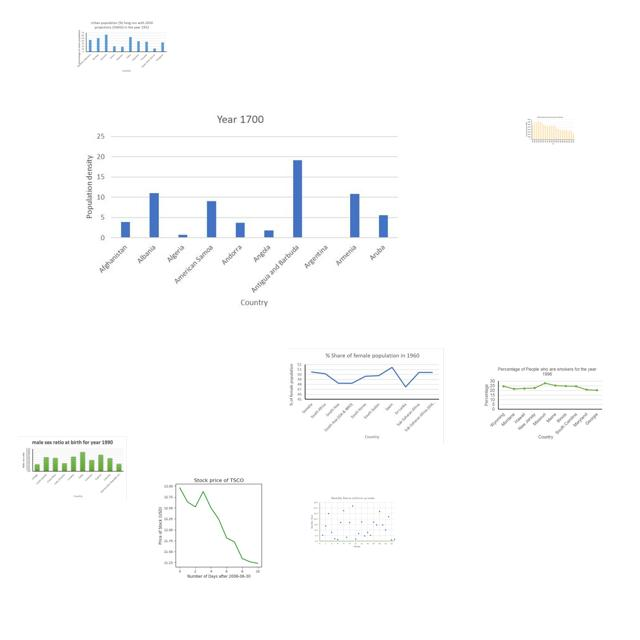Graph: (83, 108, 399, 311), (145, 471, 289, 579), (286, 348, 444, 444), (481, 365, 605, 441), (18, 436, 127, 501), (76, 20, 168, 74), (310, 496, 397, 548), (525, 116, 575, 145)
